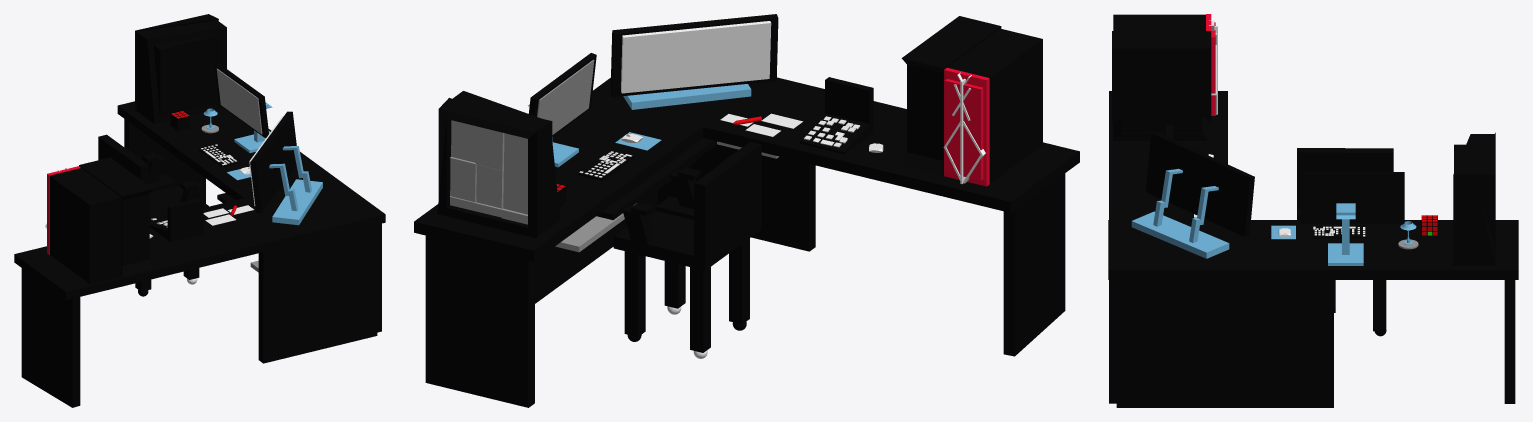
File: desktop_computer.glb
3 views of the same model, side by side, from view 1: azimuth 30°, elevation 25°; view 2: azimuth 150°, elevation 25°; view 3: azimuth 270°, elevation 25° (orthographic). The views are drawn at different scales.
Parts seen in each view (by area): view 1: Cubo.005_6, Cubo.010_11, Cubo_1, Cubo.001_2, Cubo.021_22, Cubo.003_4, Cubo.117_126, Cubo.084_90, Cubo.002_3, Cubo.085_91, Cubo.118_131, Cubo.110_120 (+7 smaller); view 2: Cubo.117_126, Cubo.002_3, Cubo_1, Cubo.001_2, Cubo.010_11, Cubo.003_4, Cubo.119_132, Cubo.021_22, Cubo.113_121, Cubo.005_6, Cubo.011_12, Cubo.085_91 (+8 smaller); view 3: Cubo.004_5, Cubo_1, Cubo.010_11, Cubo.084_90, Cubo.021_22, Cubo.111_116, Cubo.001_2, Cubo.117_126, Cubo.110_120, Cubo.002_3, Cubo.112_117, Cubo.005_6 (+4 smaller).
Boxes of the visible parts, x1,y1,x2,y2 form: Cubo.005_6: (258, 225, 377, 363); Cubo.010_11: (49, 157, 153, 283); Cubo_1: (117, 101, 385, 244); Cubo.001_2: (14, 198, 295, 300); Cubo.021_22: (135, 14, 226, 123); Cubo.003_4: (21, 268, 80, 407); Cubo.117_126: (98, 134, 208, 291); Cubo.084_90: (250, 111, 296, 212); Cubo.002_3: (124, 119, 205, 203); Cubo.085_91: (149, 198, 203, 242); Cubo.118_131: (216, 68, 262, 134); Cubo.110_120: (272, 179, 322, 225); Cubo.117_126: (613, 141, 761, 352); Cubo.002_3: (425, 235, 534, 407); Cubo_1: (414, 77, 763, 261); Cubo.001_2: (703, 77, 1079, 212); Cubo.010_11: (901, 16, 1042, 183); Cubo.003_4: (1003, 173, 1065, 356); Cubo.119_132: (621, 21, 771, 93); Cubo.021_22: (437, 91, 560, 238); Cubo.113_121: (450, 120, 527, 224); Cubo.005_6: (657, 144, 815, 251); Cubo.011_12: (944, 67, 989, 186); Cubo.085_91: (800, 77, 873, 154); Cubo.004_5: (1116, 280, 1333, 407); Cubo_1: (1108, 220, 1518, 279); Cubo.010_11: (1112, 14, 1211, 140); Cubo.084_90: (1146, 131, 1254, 236); Cubo.021_22: (1453, 132, 1495, 265); Cubo.111_116: (1300, 172, 1404, 223); Cubo.001_2: (1109, 91, 1227, 220); Cubo.117_126: (1297, 148, 1393, 331); Cubo.110_120: (1131, 211, 1229, 258); Cubo.002_3: (1504, 280, 1515, 403); Cubo.112_117: (1328, 203, 1363, 265); Cubo.005_6: (1109, 280, 1116, 403).
Size of the model in its own units: 10.2 by 6.11 by 9.88.
